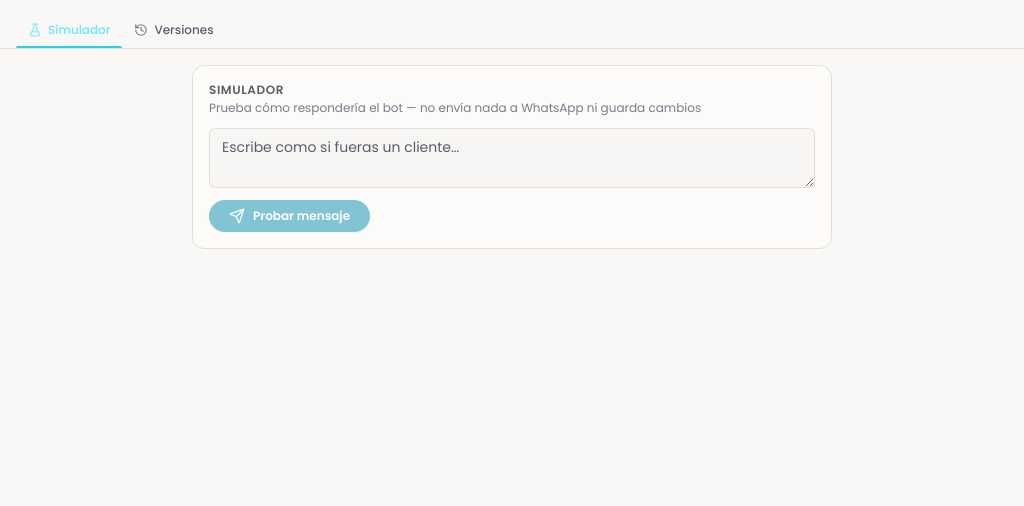
Test: ConfigVersionsPanel — Pruebas: simulador + versiones (PixelBot Console) › simula un mensaje y muestra la respuesta como burbuja + panel de explicación
Step 1. Type "hola" into the text box named "Mensaje de prueba" → (512, 158), box [209, 128, 815, 188]
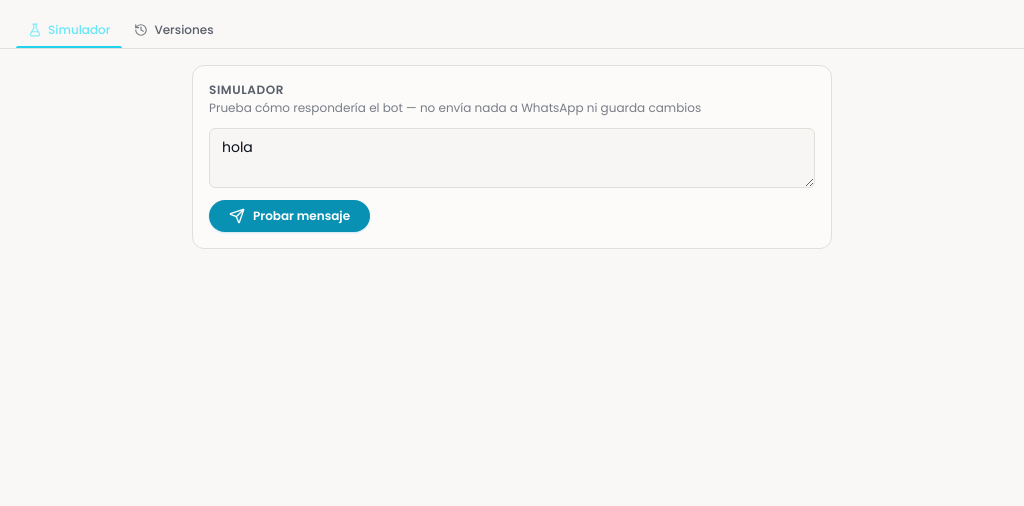
Step 2. Click the button "Probar mensaje" → (290, 216), box [209, 200, 370, 232]
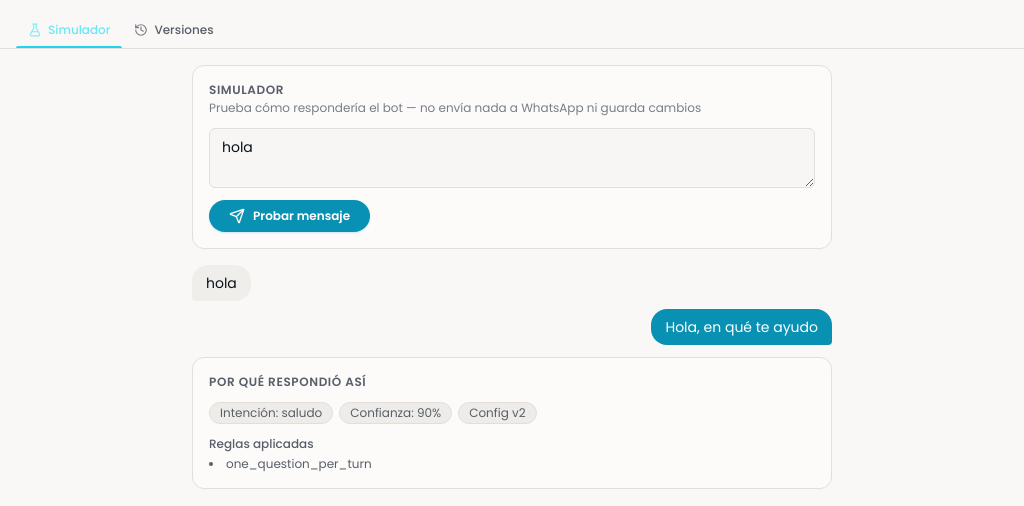
expect the text "Hola, en qué te ayudo" is shown: met, box [652, 309, 832, 345]
expect the heading "Por qué respondió así" is shown: met, box [209, 374, 366, 390]
expect the text "Intención: saludo" is shown: met, box [209, 402, 333, 424]
